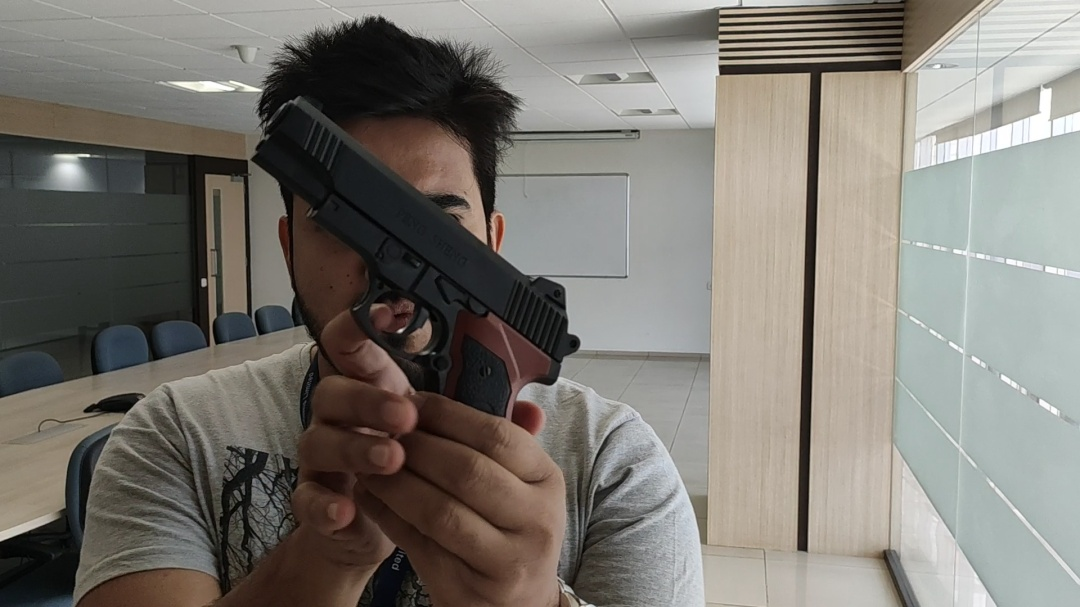gun: (233, 91, 579, 417)
